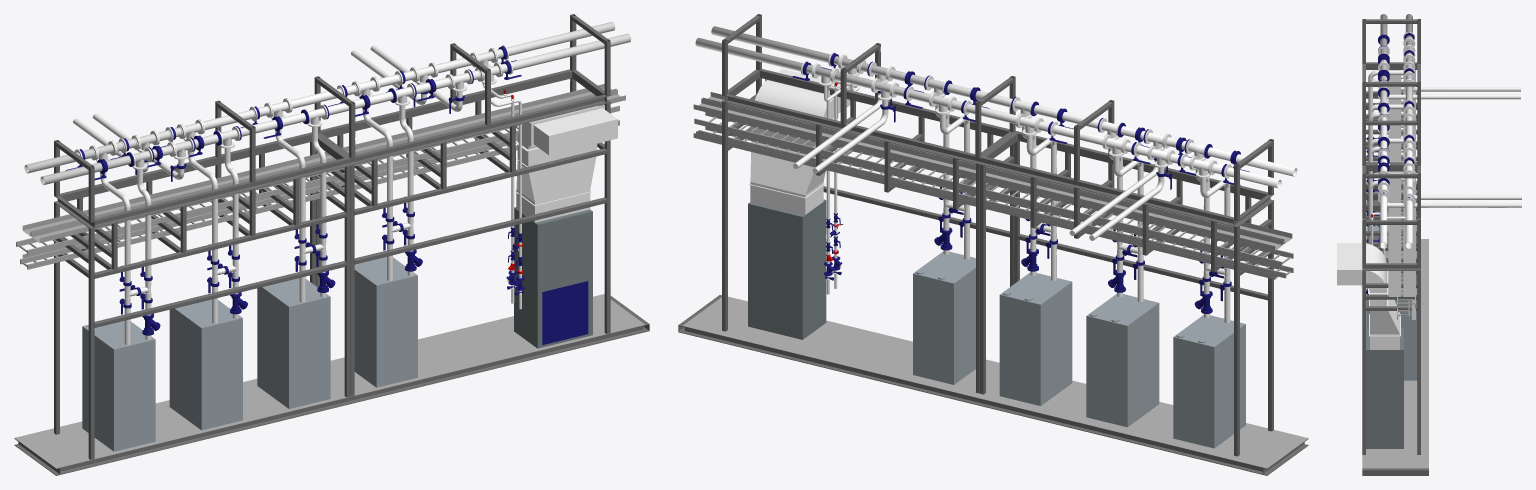
File: Skid_Type_3.glb
3 renders of one model, left to right at view 1: azimuth 30°, elevation 25°; view 2: azimuth 150°, elevation 25°; view 3: azimuth 270°, elevation 25°, orthographic. The views are drawn at different scales.
Visible parts, largest first — view 1: Untitled.329, Untitled.1133, Untitled.1132, Untitled.1130, Untitled.1131, Untitled.1127, Untitled.884, Untitled.1341, Untitled.899, Cylinder.041, Cylinder.042, Untitled.905 (+19 smaller); view 2: Untitled.329, Untitled.1127, Untitled.1132, Untitled.1133, Untitled.1130, Untitled.1131, Untitled.1341, Untitled.1353, Untitled.905, Cylinder.042, Untitled.915, Cylinder.041 (+16 smaller); view 3: Untitled.329, Untitled.1127, Untitled.1347, Untitled.1131, Cylinder.041, Cylinder.042, Untitled.1905, Untitled.1341, Untitled.918, Untitled.921, Untitled.829, Untitled.832 (+18 smaller).
Boxes of the visible parts, <box> form: Untitled.329: <box>14,294,644,468</box>; Untitled.1133: <box>257,278,330,408</box>; Untitled.1132: <box>169,299,242,430</box>; Untitled.1130: <box>82,320,155,451</box>; Untitled.1131: <box>354,256,417,387</box>; Untitled.1127: <box>514,207,592,348</box>; Untitled.884: <box>94,94,606,228</box>; Untitled.1341: <box>22,84,616,236</box>; Untitled.899: <box>60,325,645,474</box>; Cylinder.041: <box>40,33,630,185</box>; Cylinder.042: <box>24,22,615,173</box>; Untitled.905: <box>60,69,572,201</box>; Untitled.329: <box>683,296,1308,468</box>; Untitled.1127: <box>748,199,826,339</box>; Untitled.1132: <box>1086,294,1159,427</box>; Untitled.1133: <box>999,272,1072,405</box>; Untitled.1130: <box>1173,315,1245,448</box>; Untitled.1131: <box>913,251,975,384</box>; Untitled.1341: <box>693,98,1282,250</box>; Untitled.1353: <box>694,112,1293,266</box>; Untitled.905: <box>725,94,1233,226</box>; Cylinder.042: <box>695,37,1281,188</box>; Untitled.915: <box>682,326,1262,474</box>; Cylinder.041: <box>711,26,1297,176</box>; Untitled.329: <box>1362,239,1428,468</box>; Untitled.1127: <box>1366,328,1403,448</box>; Untitled.1347: <box>1388,70,1401,296</box>; Untitled.1131: <box>1366,283,1417,380</box>; Cylinder.041: <box>1380,14,1387,248</box>; Cylinder.042: <box>1405,14,1412,248</box>; Untitled.1905: <box>1337,243,1361,285</box>; Untitled.1341: <box>1403,70,1415,296</box>; Untitled.918: <box>1369,294,1400,336</box>; Untitled.921: <box>1361,240,1388,293</box>; Untitled.829: <box>1362,271,1365,454</box>; Untitled.832: <box>1417,271,1420,454</box>.
Bounding box in the file's own units: 13.03 × 6.22 × 4.36.
